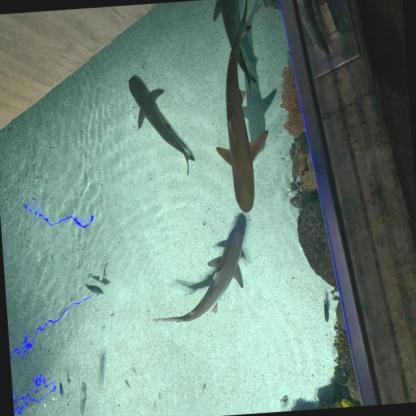fish: (76, 376, 90, 415), (83, 280, 104, 298), (338, 393, 362, 407), (321, 296, 332, 324)
shark: (205, 0, 275, 214), (143, 212, 252, 326), (127, 70, 196, 182), (209, 0, 260, 101)
